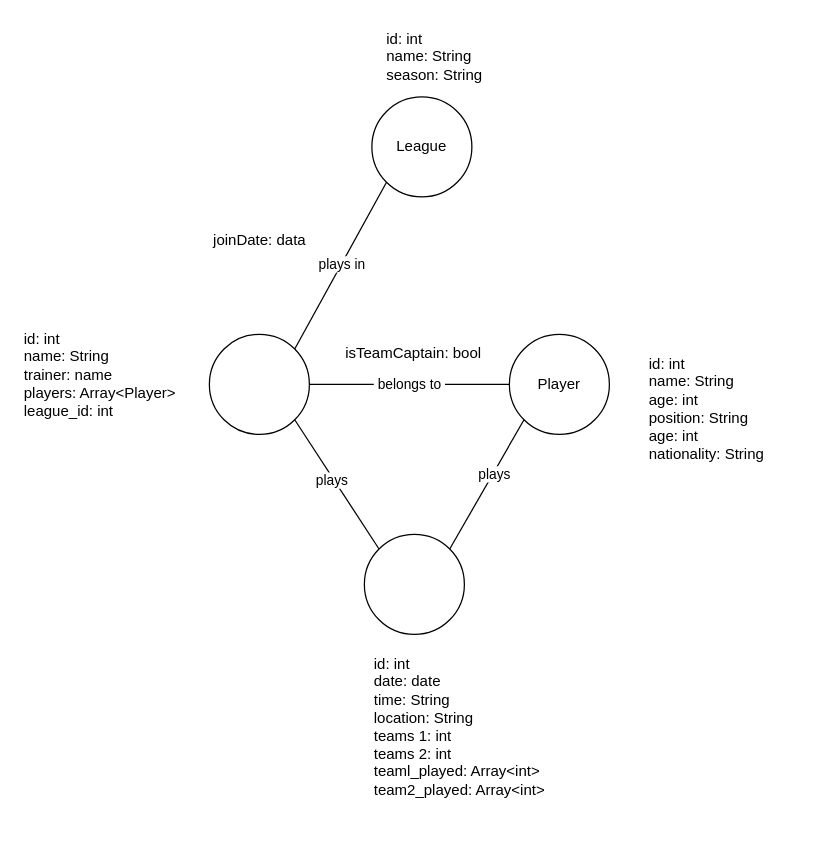
The diagram is 830 pixels wide and 843 high, and some of its shapes have lost their labels. The shapes that lost their labels are listed below. From the top down, each one's box as (x1, y1, x2, y2) in pixels, then its label:
(208, 333, 309, 434): Team
(363, 533, 464, 634): Game
